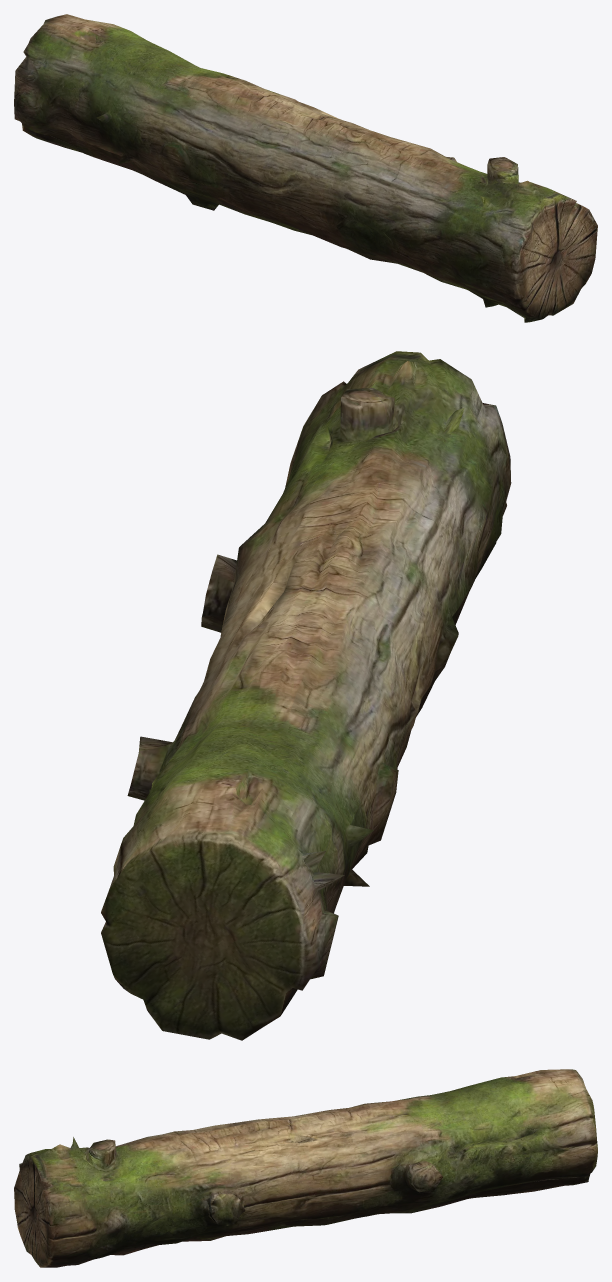
File: log_trunk.glb
The picture shows the model from 3 angles, top to bottom: view 1: azimuth 30°, elevation 25°; view 2: azimuth 150°, elevation 25°; view 3: azimuth 270°, elevation 25°; orthographic projection. The views are drawn at different scales.
Parts seen in each view (by area): view 1: trunk0_LOW_RES; view 2: trunk0_LOW_RES; view 3: trunk0_LOW_RES.
Part boxes in pixels (x1,y1,x2,y2): trunk0_LOW_RES: (14, 14, 597, 322); trunk0_LOW_RES: (101, 351, 511, 1040); trunk0_LOW_RES: (14, 1069, 597, 1267).
Bounding box in the file's own units: 1.04 × 0.4405 × 1.99.
1 material, 1 textured.
